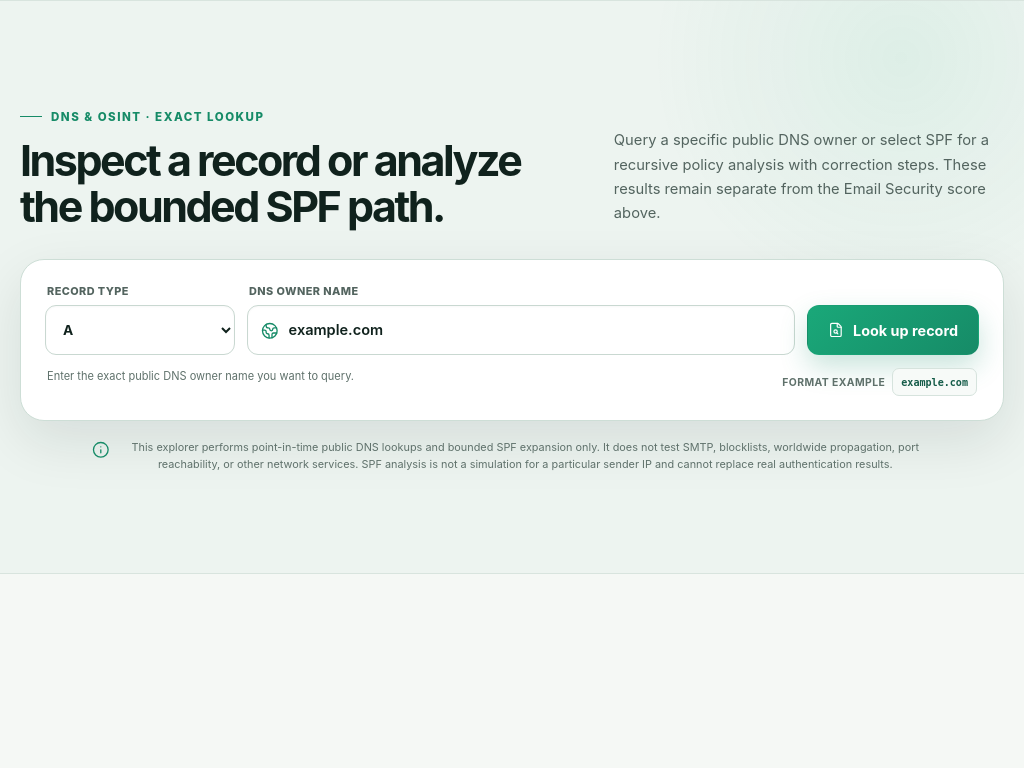
Test: DNS record explorer interactions › shows empty-answer remediation without labeling optional DNS as broken
Select "CAA" in the dropdown labelled "Record type" at (140, 330), box [45,305,235,355]
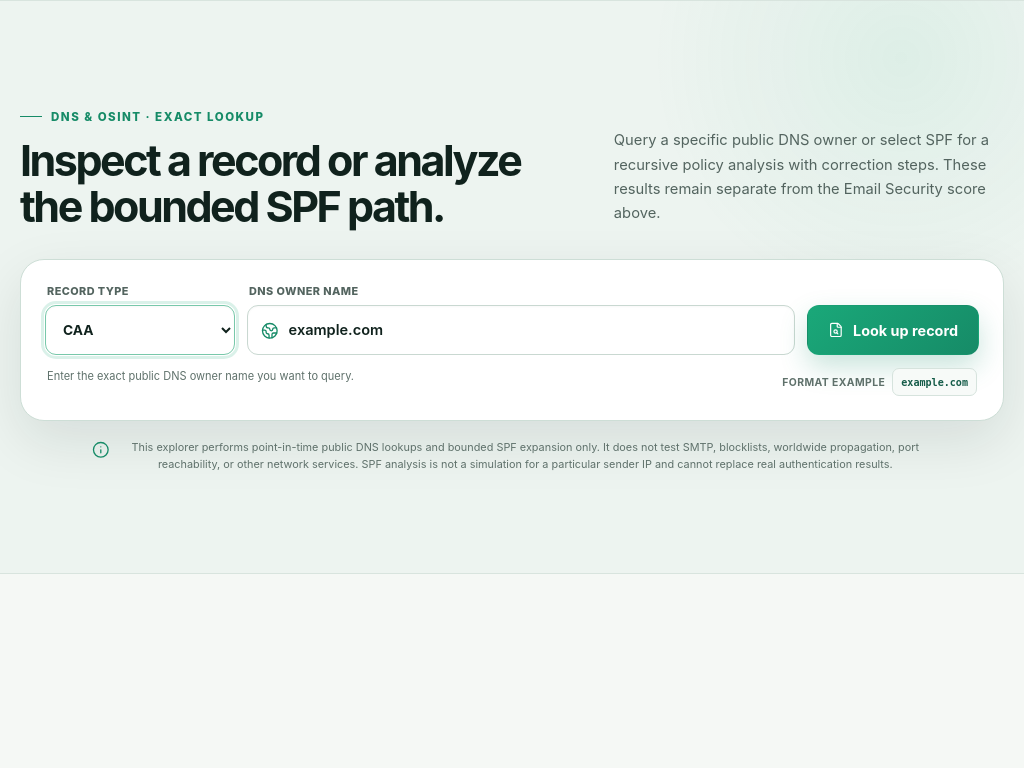
Click the button "Look up record".
click(893, 330)  # box [807,305,979,355]
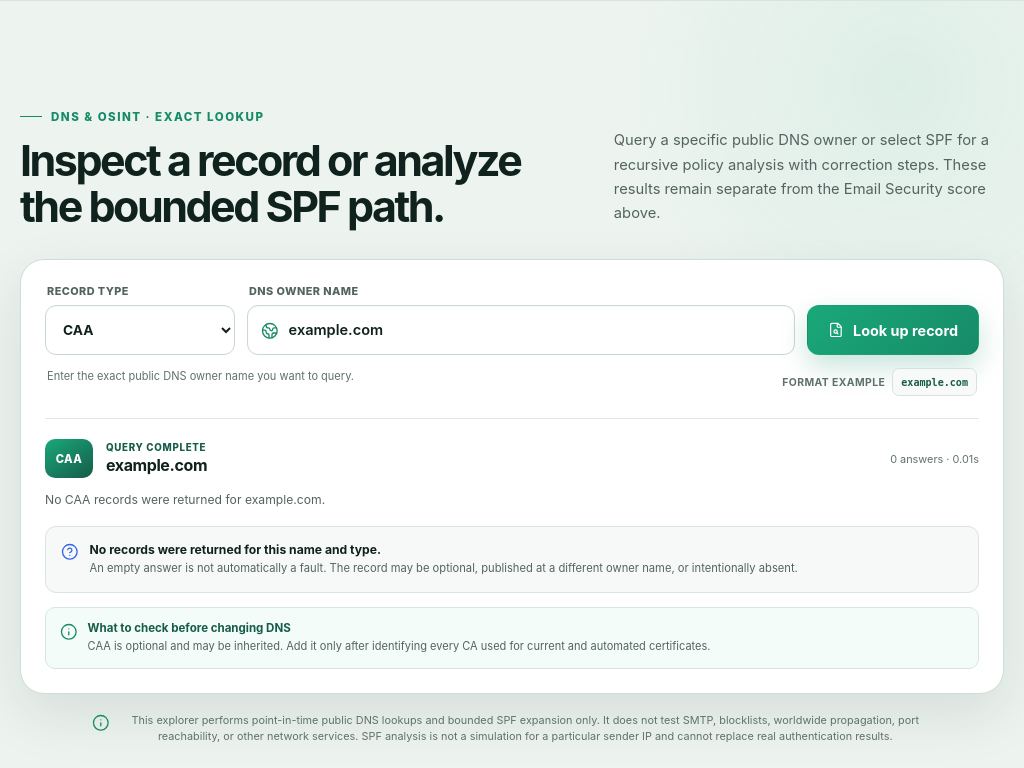
Now the text "No records were returned for this name and type." is shown, box [90,542,381,557]
Now the text "CAA is optional and may be inherited" shows "Add it only after identifying every CA", box [88,639,711,653]
